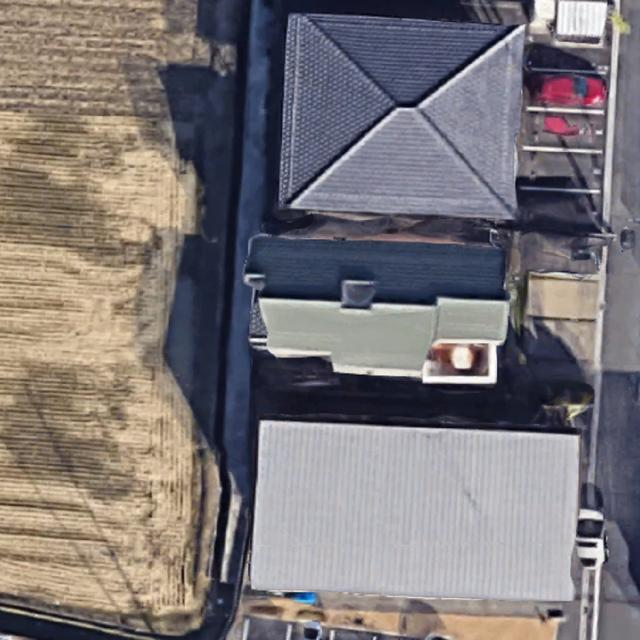Batiment: (250, 420, 580, 601), (278, 14, 525, 219), (244, 235, 509, 384)
